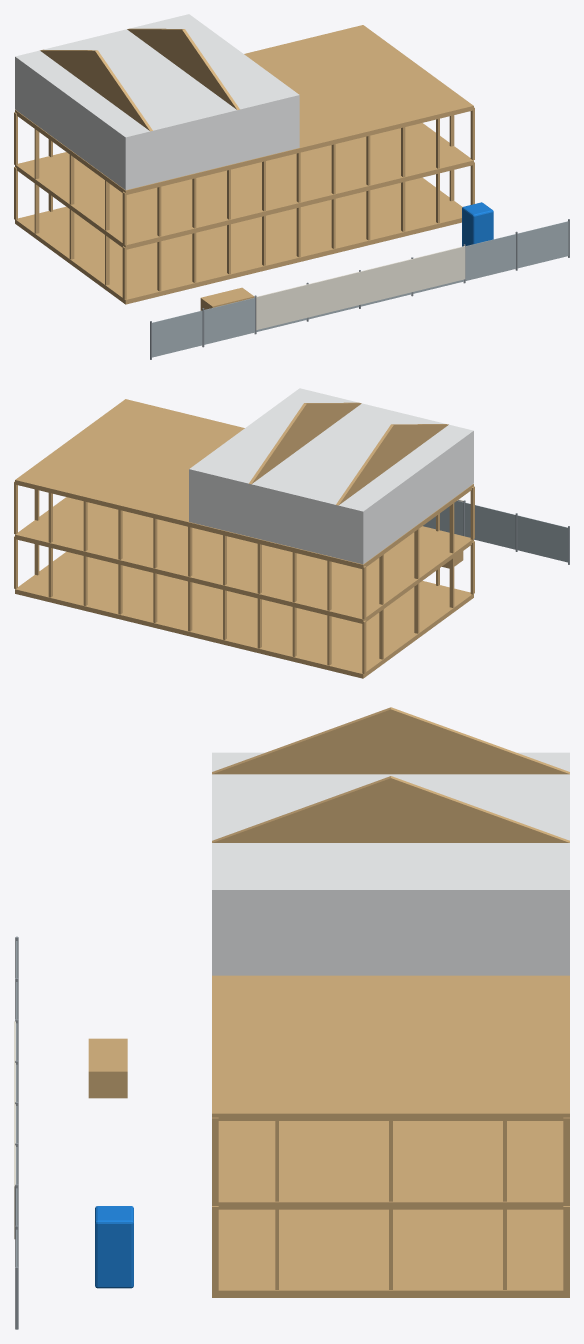
File: town_frame.glb
3 views of the same model, one above another, from view 1: azimuth 30°, elevation 25°; view 2: azimuth 150°, elevation 25°; view 3: azimuth 270°, elevation 25° (orthographic). The views are drawn at different scales.
Parts seen in each view (by area): view 1: TownFrame_body, TownFrame_fence; view 2: TownFrame_body, TownFrame_fence; view 3: TownFrame_body, TownFrame_fence.
Part boxes in pixels (x1,y1,x2,y2): TownFrame_body: [14, 14, 493, 310]; TownFrame_fence: [150, 219, 569, 359]; TownFrame_body: [14, 388, 474, 678]; TownFrame_fence: [423, 499, 569, 564]; TownFrame_body: [88, 707, 569, 1297]; TownFrame_fence: [14, 936, 18, 1329].
Size of the model in its own units: 24.09 by 11.5 by 17.09.
